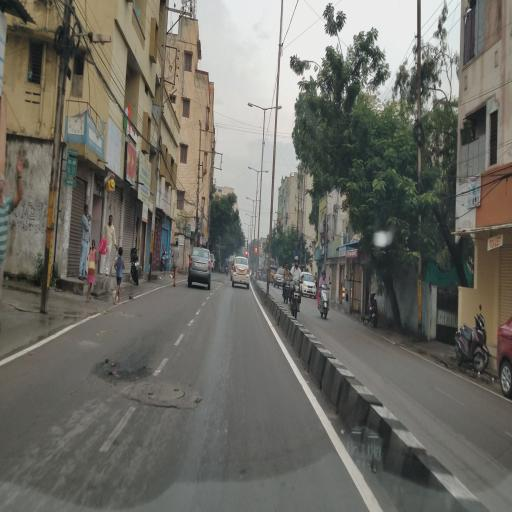street_light_0: (242, 94, 268, 120), (266, 97, 288, 119), (247, 154, 260, 176), (257, 166, 271, 184), (242, 192, 254, 208)
